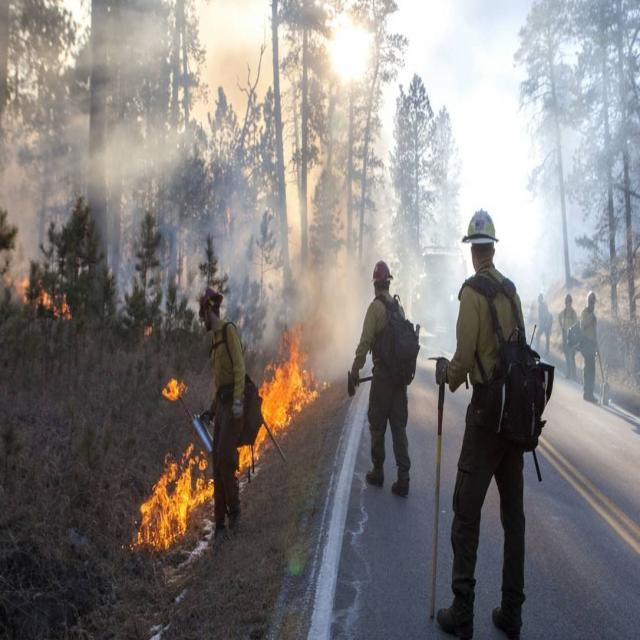Fire: (236, 336, 327, 472), (141, 440, 214, 550), (13, 271, 71, 321), (162, 376, 183, 402)
